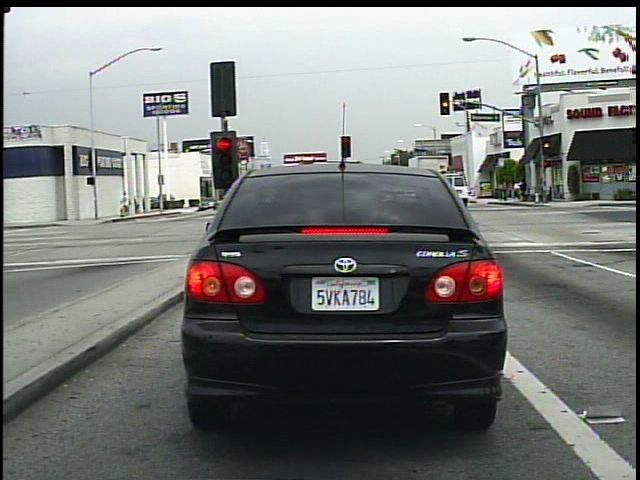person: (121, 189, 132, 219), (519, 177, 530, 204)
